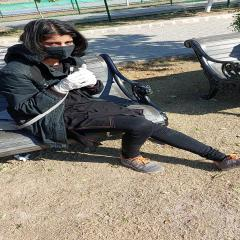gloved: (54, 73, 96, 91), (80, 64, 96, 86)
